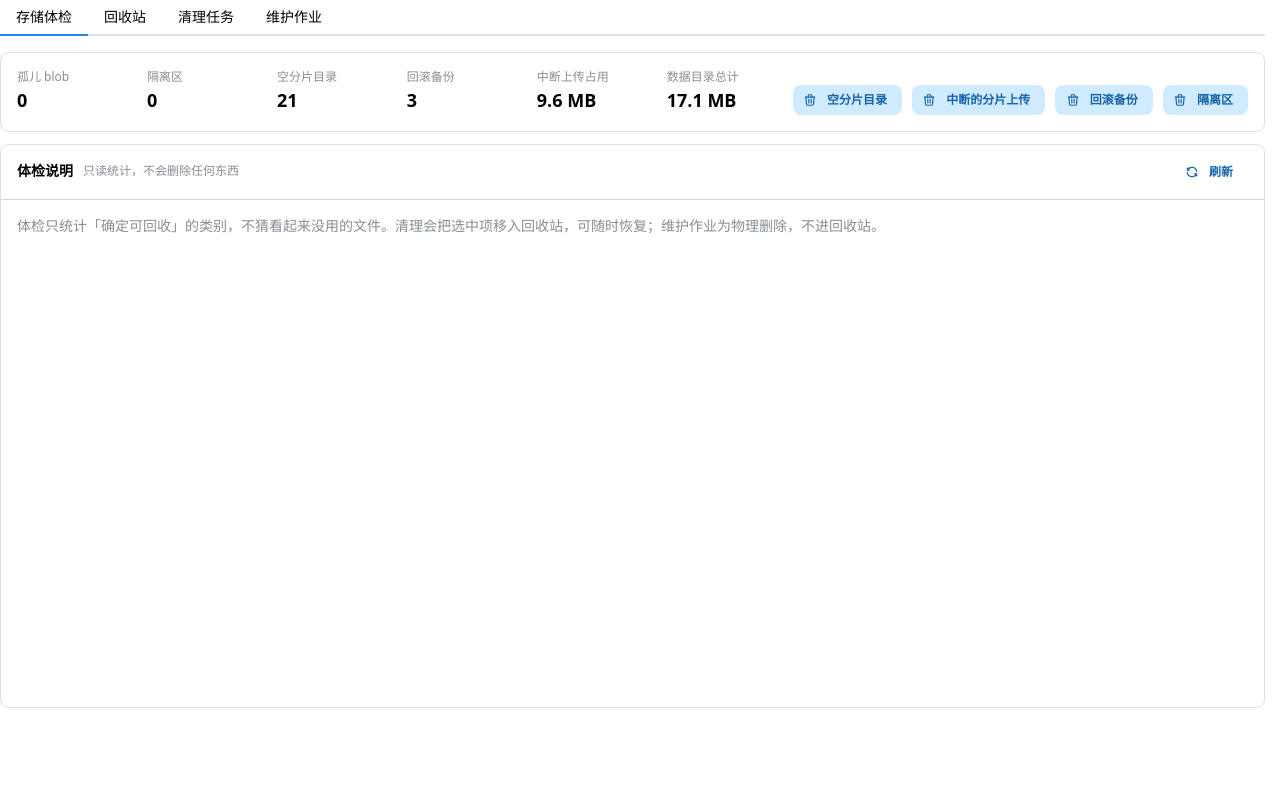
Test: 维护与清理页：三层防护 › 取消预览不发清理请求
Click the button "空分片目录". click: (847, 100)
box: [793,85,902,115]
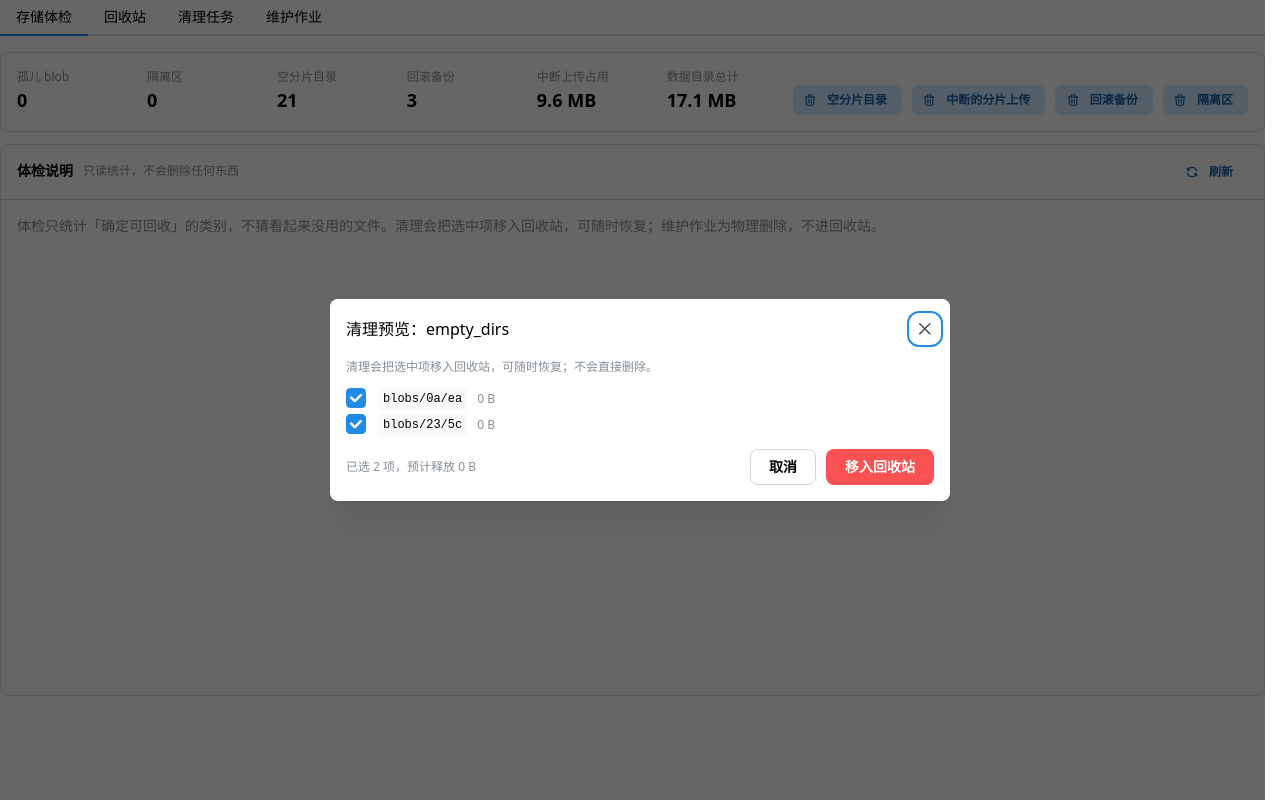
Click the button "取消". click: (783, 467)
box: [750,449,816,485]
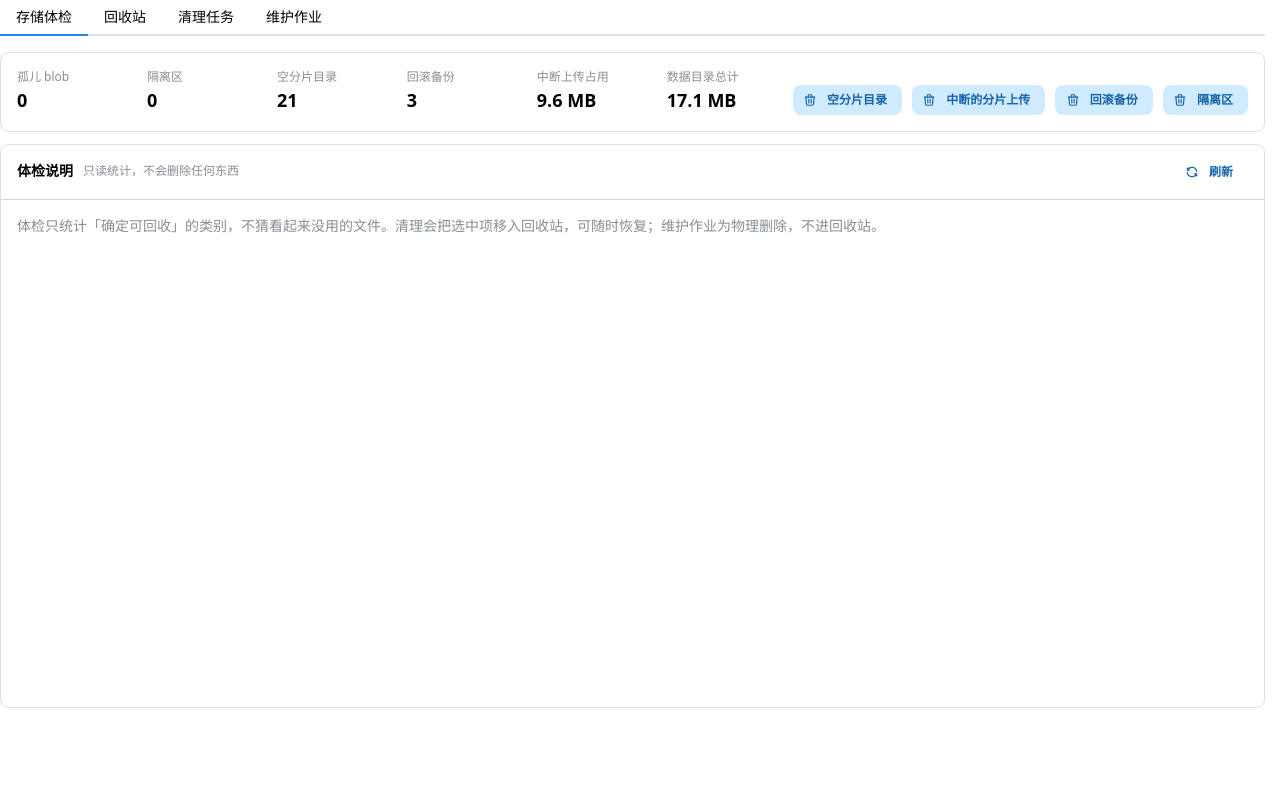
Expected: the dialog is gone
